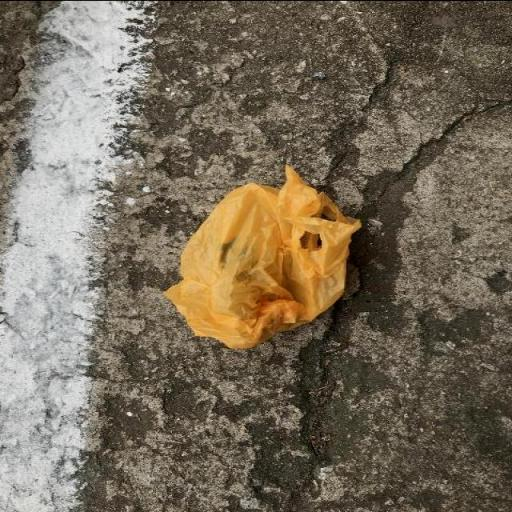polythene: (166, 166, 361, 347)
